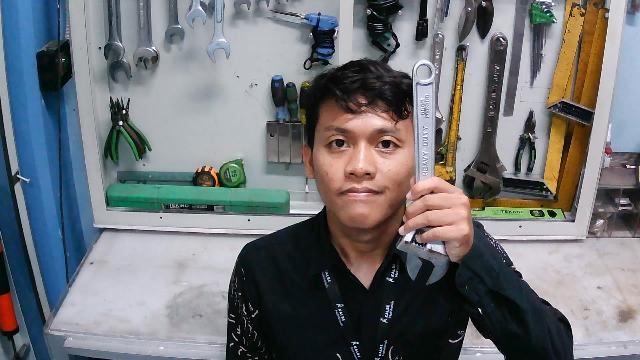kunci_inggris: (395, 60, 456, 262)
